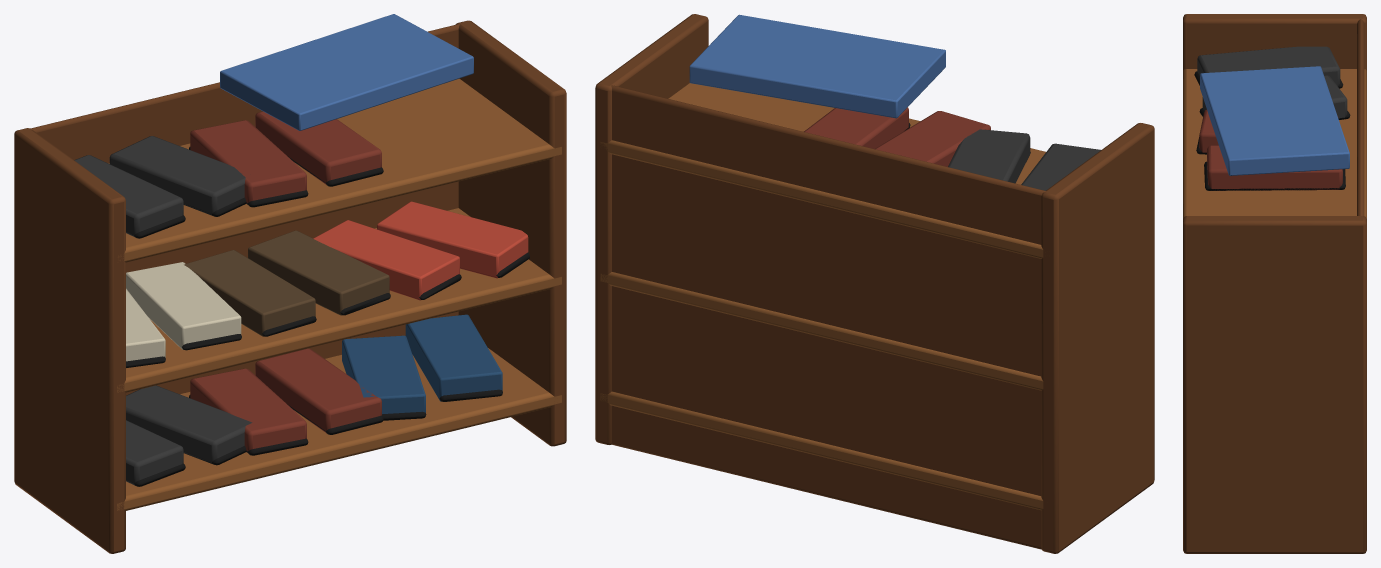
File: KeGiayDep_Go.glb
3 renders of one model, left to right at view 1: azimuth 30°, elevation 25°; view 2: azimuth 150°, elevation 25°; view 3: azimuth 270°, elevation 25°, orthographic. The views are drawn at different scales.
Visible parts, largest first — view 1: KeGiayDep_Go; view 2: KeGiayDep_Go; view 3: KeGiayDep_Go.
Boxes of the visible parts, x1=… form: KeGiayDep_Go: x1=14, y1=14, x2=566, y2=553; KeGiayDep_Go: x1=595, y1=14, x2=1154, y2=553; KeGiayDep_Go: x1=1183, y1=14, x2=1366, y2=553.
Bounding box in the file's own units: 0.81 × 0.655 × 0.3.
